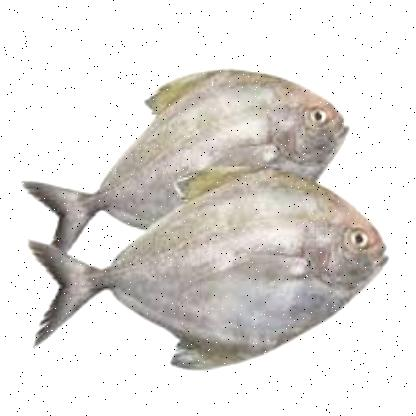ikan-pacu: (33, 170, 387, 362), (57, 63, 347, 229)
